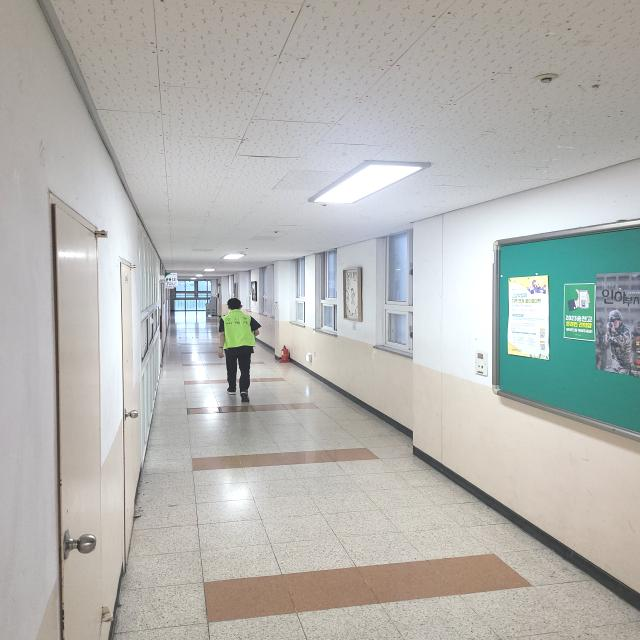weston_spy: (212, 299, 272, 358)
